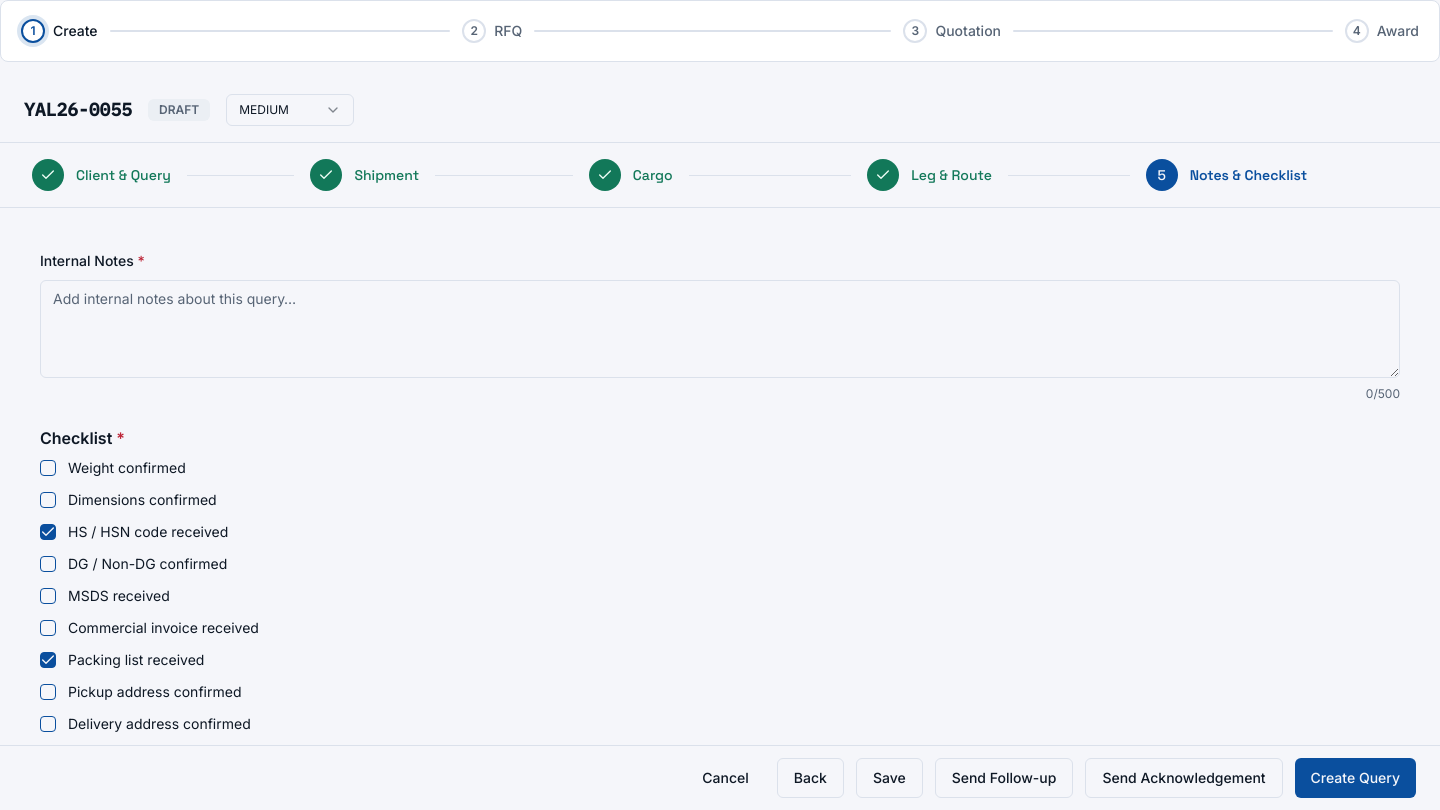
Step5Notes › Send Acknowledgement POSTs /emails/acknowledgement and the email appears in the log
This screenshot has width=1440, height=810.
Expected: the text "YAL26-0055" is shown, x1=24 y1=98 x2=132 y2=121
Click the button "5 Notes & Checklist" at (1226,175), box x1=1138 y1=155 x2=1315 y2=195
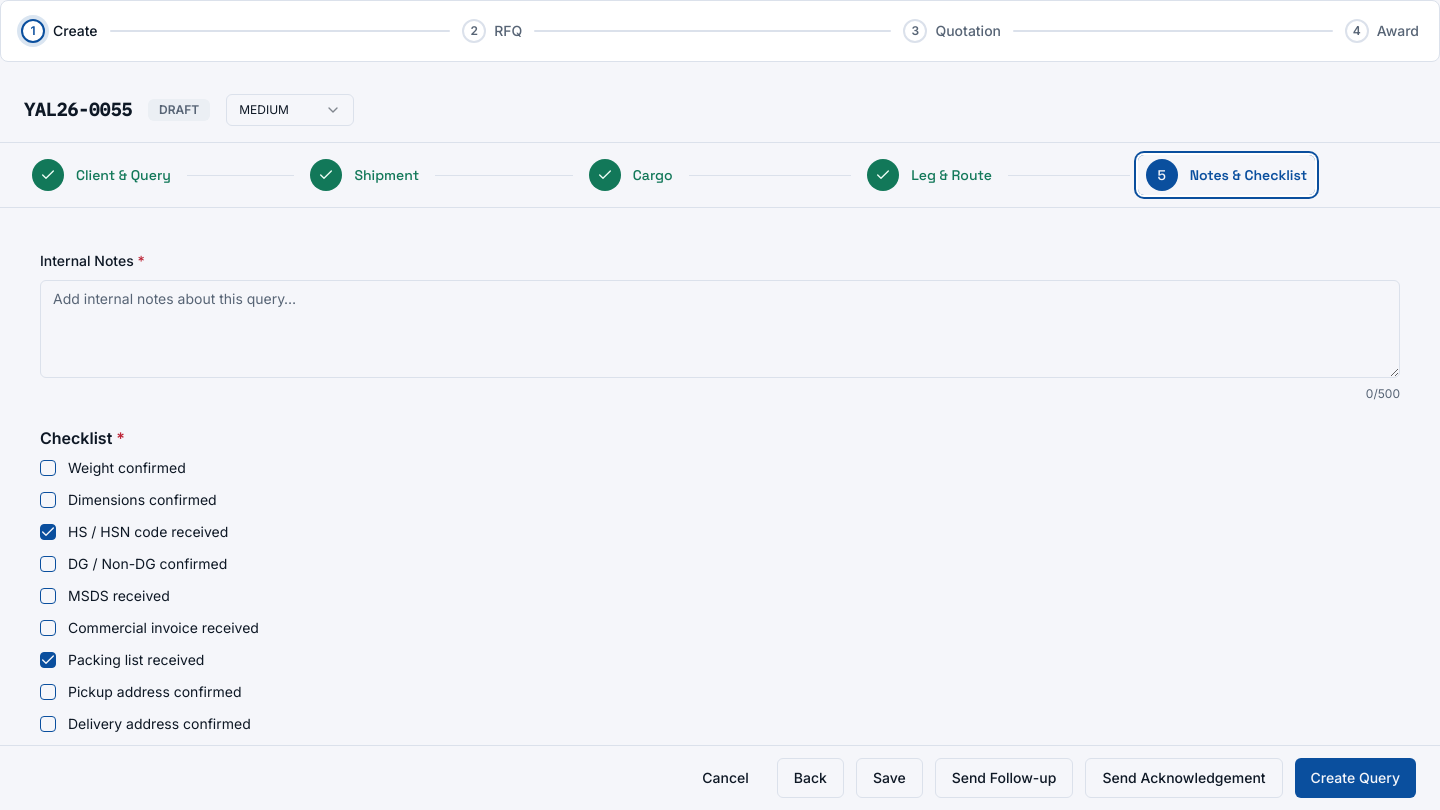
Expected: the text "Weight confirmed" is shown, x1=68 y1=458 x2=186 y2=478
Click the button "Send Acknowledgement" at (1184,778), box x1=1085 y1=758 x2=1283 y2=798
(page scrolled)
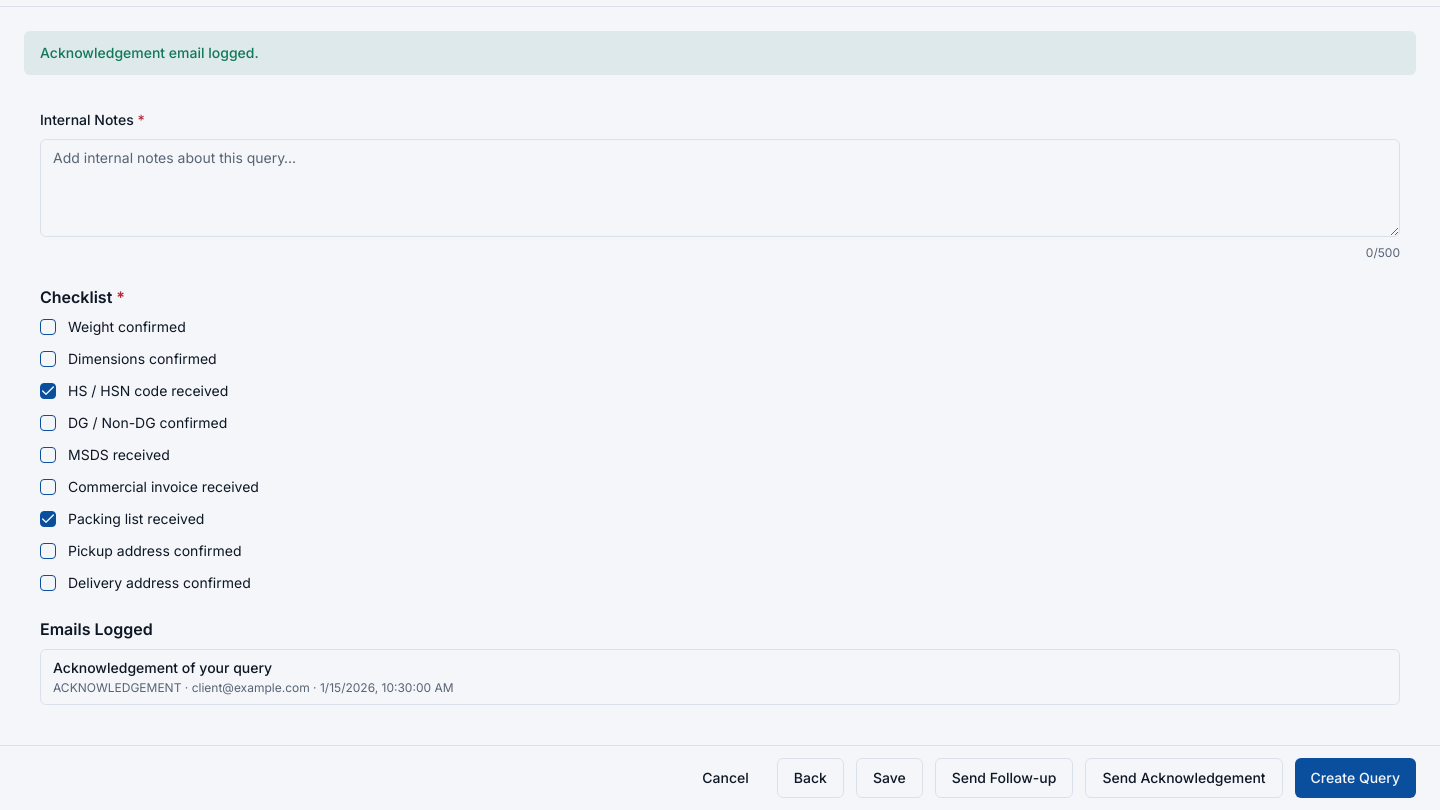
Now the text "Acknowledgement of your query" is shown, box x1=53 y1=659 x2=272 y2=676
